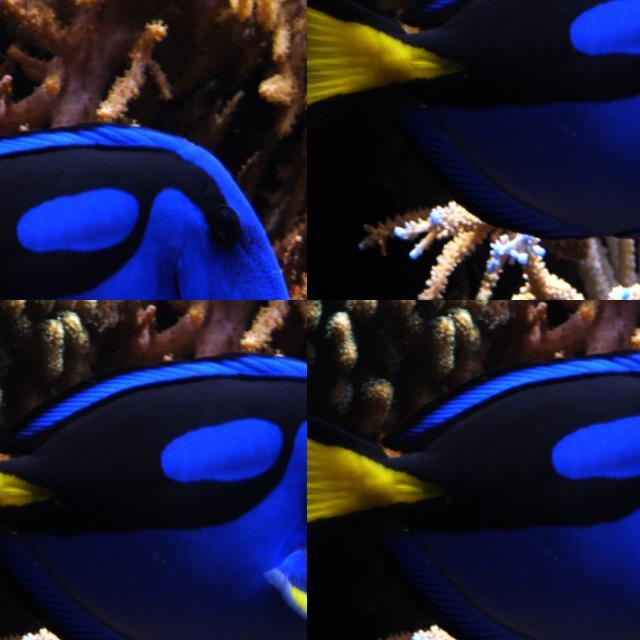BlueTang: (304, 359, 640, 640), (0, 353, 307, 639), (307, 0, 640, 194), (0, 127, 294, 299)
